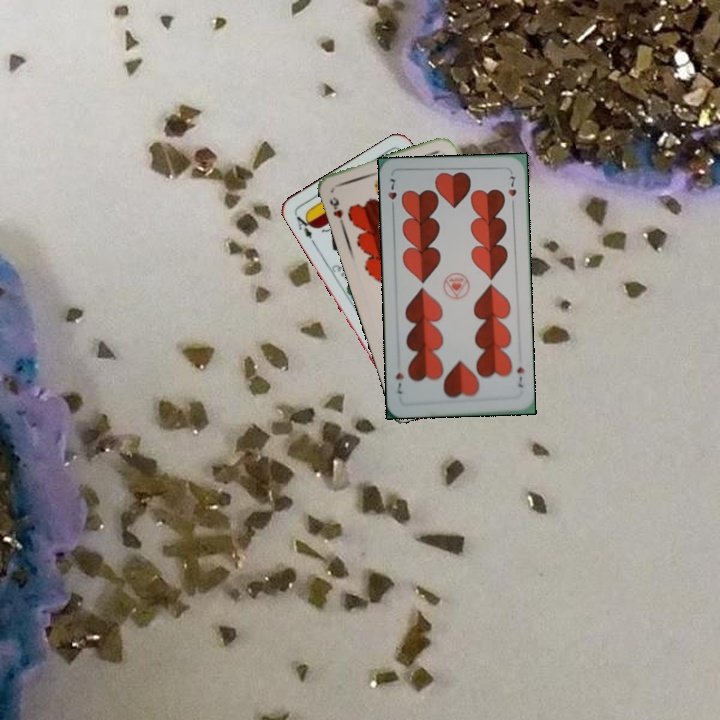EA: (292, 209, 318, 247)
H7: (384, 175, 399, 213), (513, 363, 526, 390)
H9: (325, 193, 346, 228)
